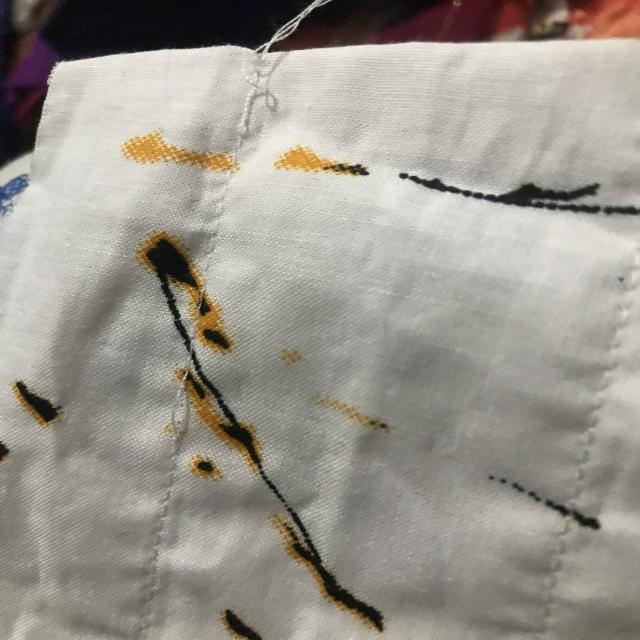skip: (158, 349, 221, 478)
